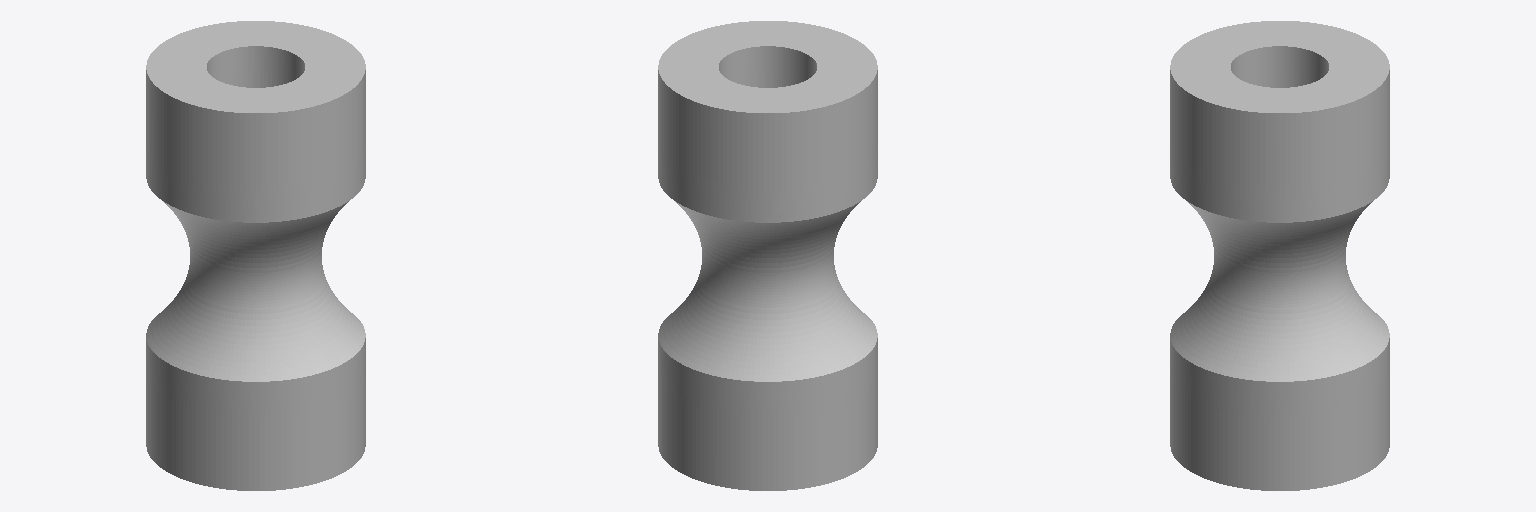
Rendered from roller_4x.obj.
3 renders of one model, left to right at view 1: azimuth 30°, elevation 25°; view 2: azimuth 150°, elevation 25°; view 3: azimuth 270°, elevation 25°, orthographic.
Parts seen in each view (by area): view 1: roller_4x; view 2: roller_4x; view 3: roller_4x.
Part boxes in pixels (left/top/right/bottom): roller_4x: left=146, top=21, right=365, bottom=490; roller_4x: left=658, top=21, right=877, bottom=490; roller_4x: left=1170, top=21, right=1389, bottom=490.
Size of the model in its own units: 20 by 38 by 20.